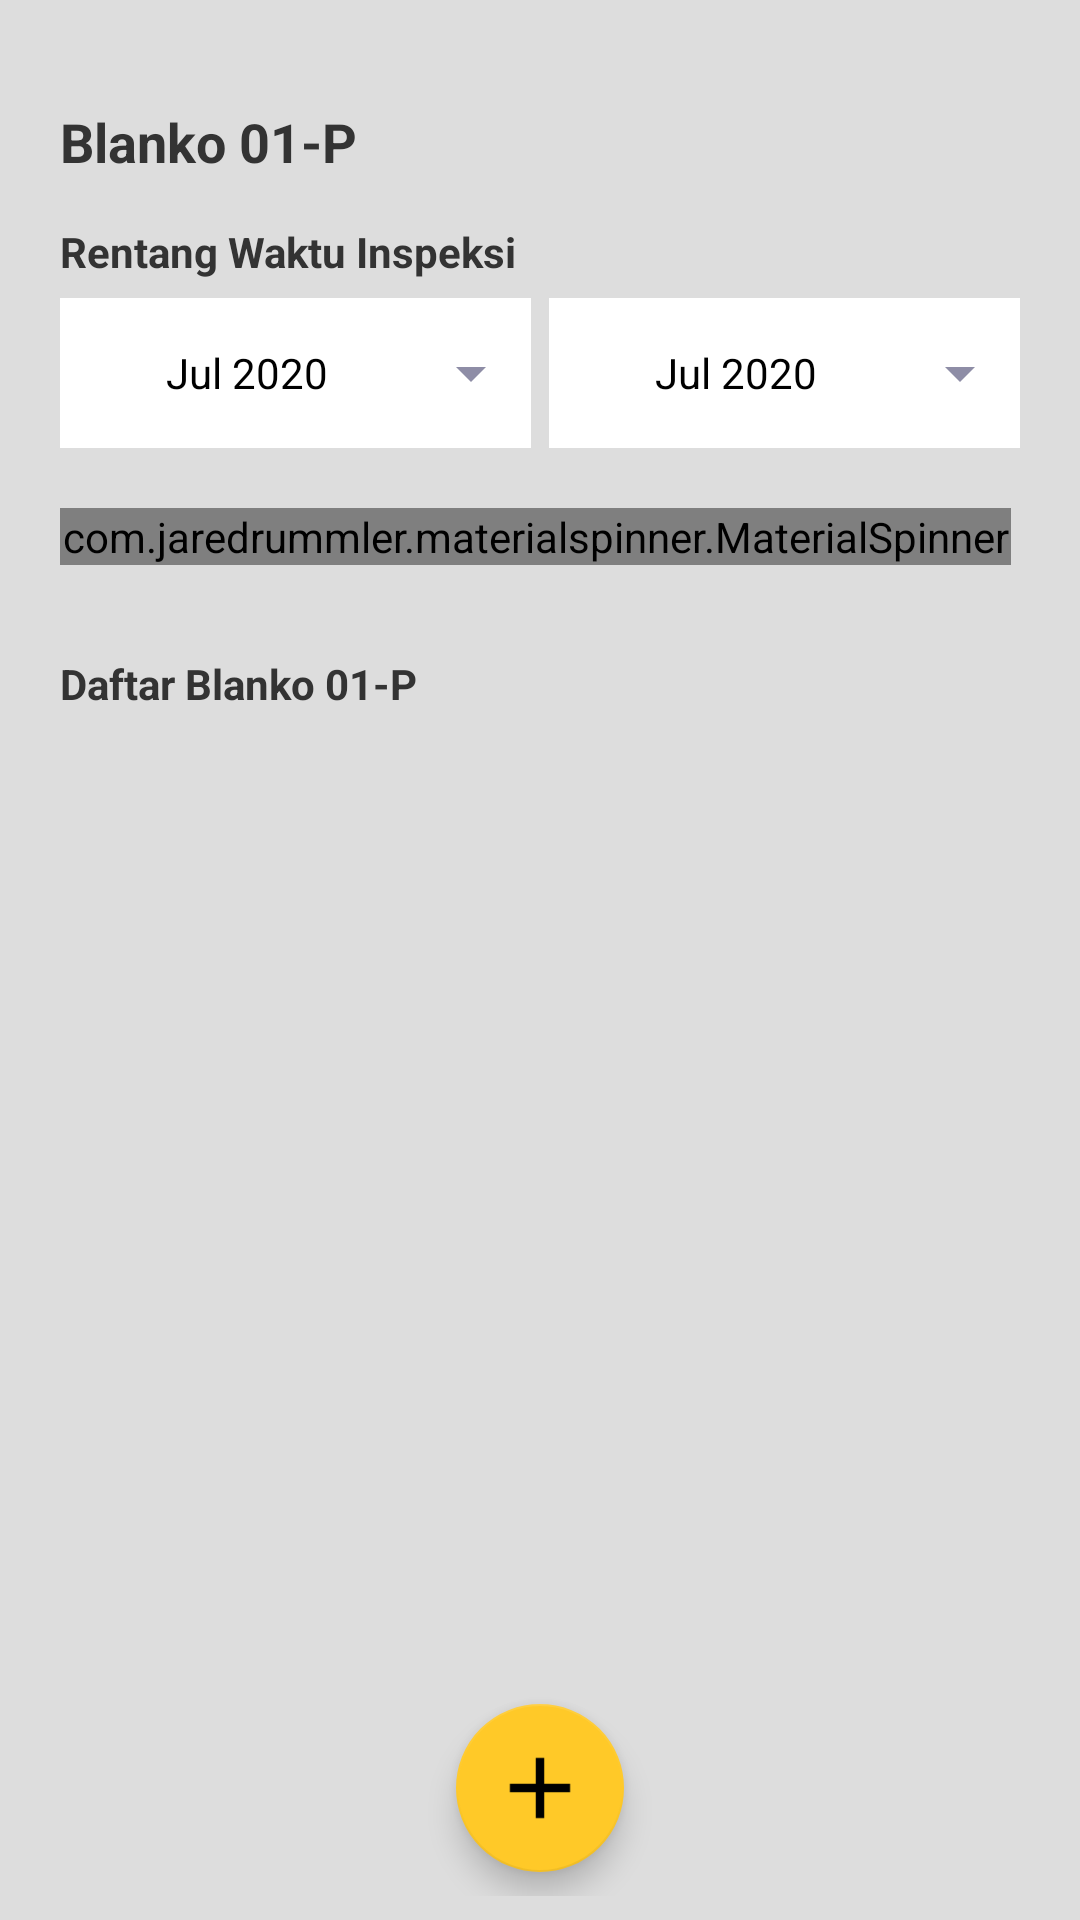

Point at icon controls on the screen. Image size 1080 × 1920, points as point (x, y).
add: point (540, 1788)
arrow drop down: point (471, 374), point (960, 374)
